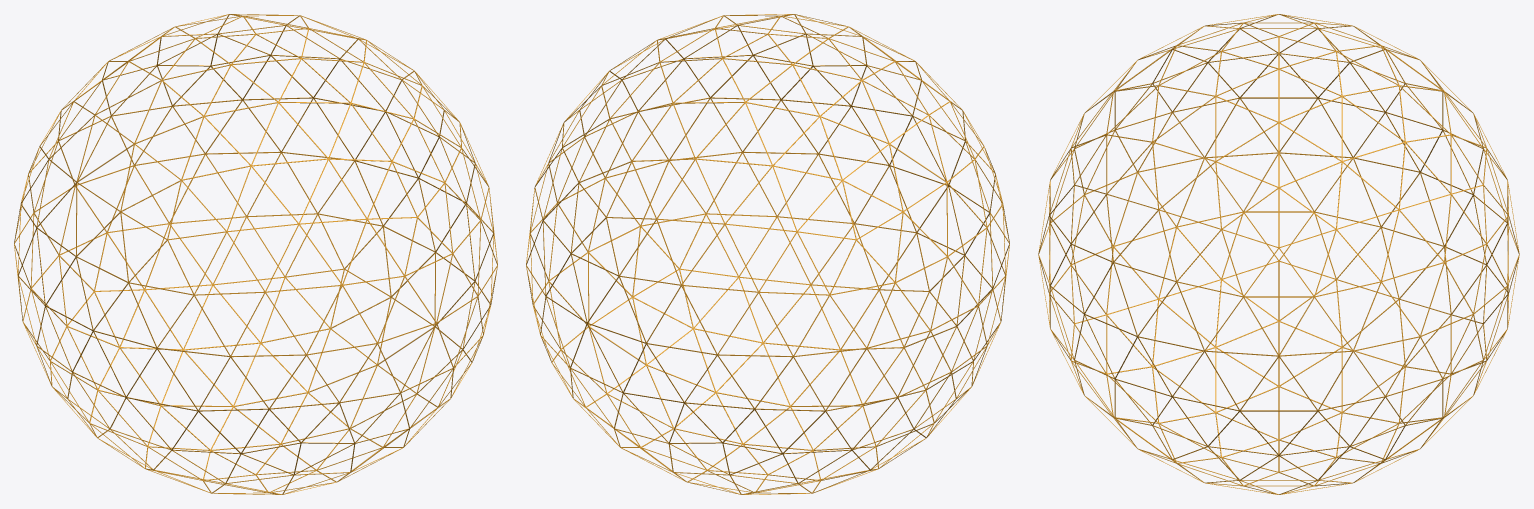
Rendered from Room Flame.fbx.
3 views of the same model, side by side, from view 1: azimuth 30°, elevation 25°; view 2: azimuth 150°, elevation 25°; view 3: azimuth 270°, elevation 25° (orthographic).
Visible parts, largest first — view 1: Room Flame; view 2: Room Flame; view 3: Room Flame.
Boxes of the visible parts, x1,y1,x2,y2 form: Room Flame: (14, 14, 497, 494); Room Flame: (526, 14, 1009, 494); Room Flame: (1038, 14, 1519, 494).
Size of the model in its own units: 1500 by 1501 by 1500.
